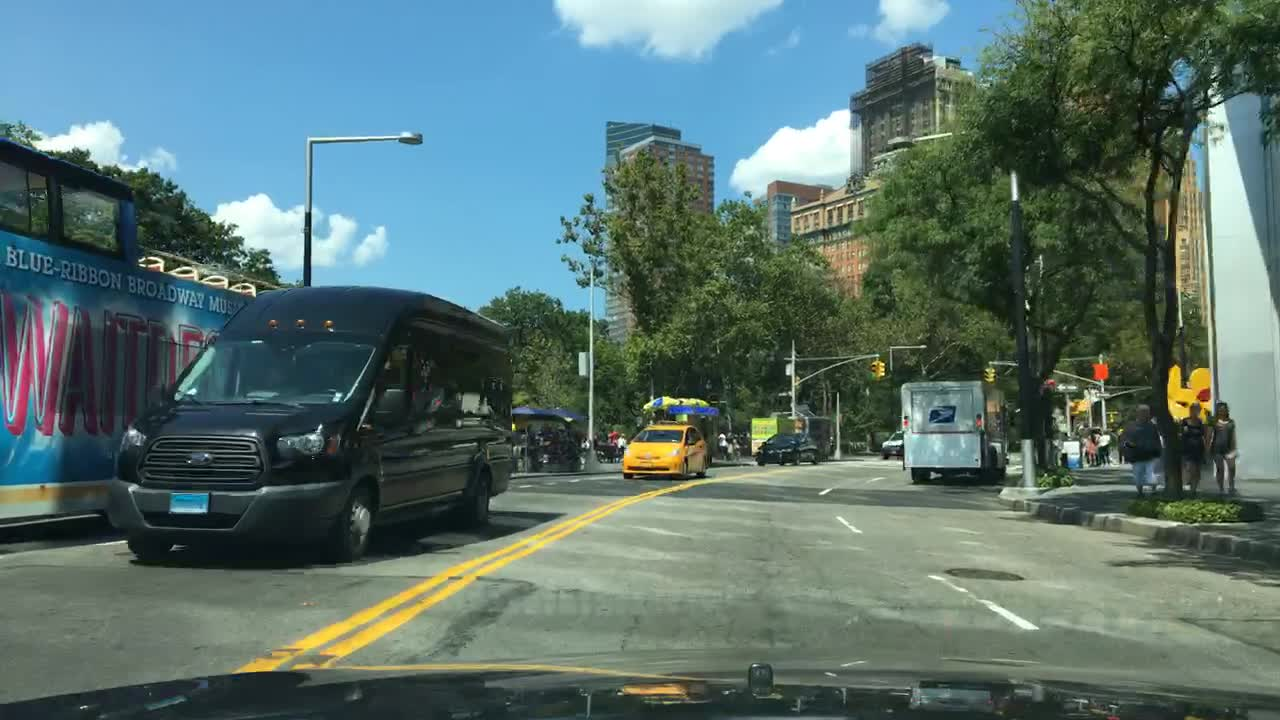bus: (1, 136, 285, 532)
car: (107, 286, 511, 562), (625, 425, 704, 476), (757, 434, 819, 466), (531, 438, 581, 469), (882, 430, 904, 457), (595, 437, 614, 461)
person: (1120, 405, 1165, 496), (1206, 399, 1239, 499), (1179, 400, 1207, 496), (1085, 430, 1097, 466), (716, 430, 729, 461), (1099, 429, 1110, 464), (729, 430, 741, 460), (607, 427, 617, 460), (617, 432, 626, 463)
traffic light: (875, 360, 885, 379), (870, 359, 879, 379), (987, 364, 995, 384), (1073, 400, 1086, 411), (982, 365, 989, 383), (794, 376, 801, 393)
traffic sign: (578, 351, 591, 374), (1057, 382, 1076, 390), (776, 389, 790, 397), (1094, 391, 1112, 396), (785, 362, 791, 374)
truck: (900, 380, 1008, 486)
